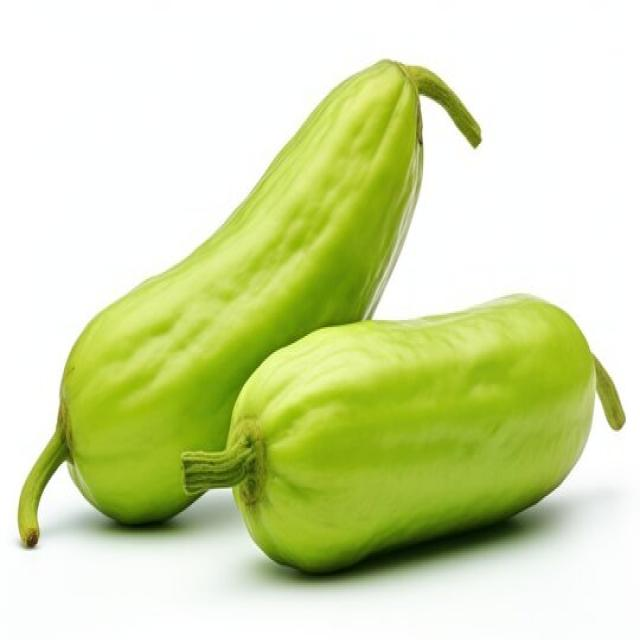Bottle Gourd: (17, 55, 481, 549), (180, 290, 625, 574)
